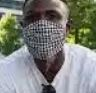with_facemask: (24, 22, 62, 56)
